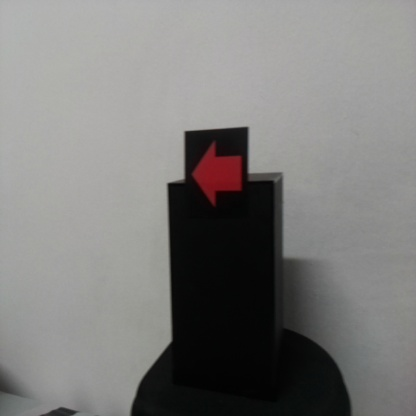id_4: (185, 131, 249, 215)
